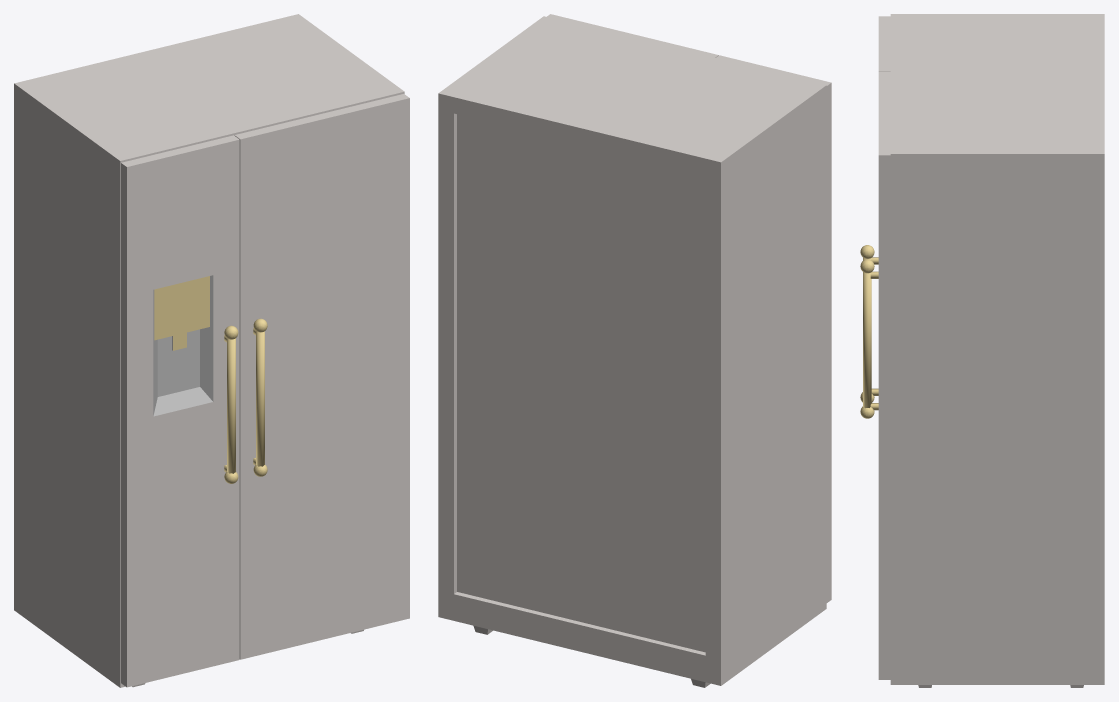
File: Fridge_A 1.fbx
3 renders of one model, left to right at view 1: azimuth 30°, elevation 25°; view 2: azimuth 150°, elevation 25°; view 3: azimuth 270°, elevation 25°, orthographic.
Parts seen in each view (by area): view 1: polySurface1, Fridge_04__1_, Fridge_04_Door_L, Sphere.001, Sphere.003; view 2: Fridge_04__1_, Fridge_04_Door_L, polySurface1; view 3: Fridge_04__1_, polySurface1, Sphere.001, Fridge_04_Door_L.
Part boxes in pixels (x1,y1,x2,y2): polySurface1: [234, 94, 409, 659]; Fridge_04__1_: [14, 14, 404, 687]; Fridge_04_Door_L: [121, 135, 239, 687]; Sphere.001: [253, 318, 267, 476]; Sphere.003: [224, 325, 238, 483]; Fridge_04__1_: [438, 16, 826, 687]; Fridge_04_Door_L: [716, 55, 831, 602]; polySurface1: [547, 14, 718, 57]; Fridge_04__1_: [890, 14, 1104, 687]; polySurface1: [878, 72, 890, 679]; Sphere.001: [860, 259, 878, 418]; Fridge_04_Door_L: [878, 16, 890, 71].
Bounding box in the file's own units: 100 × 182 × 73.73.
